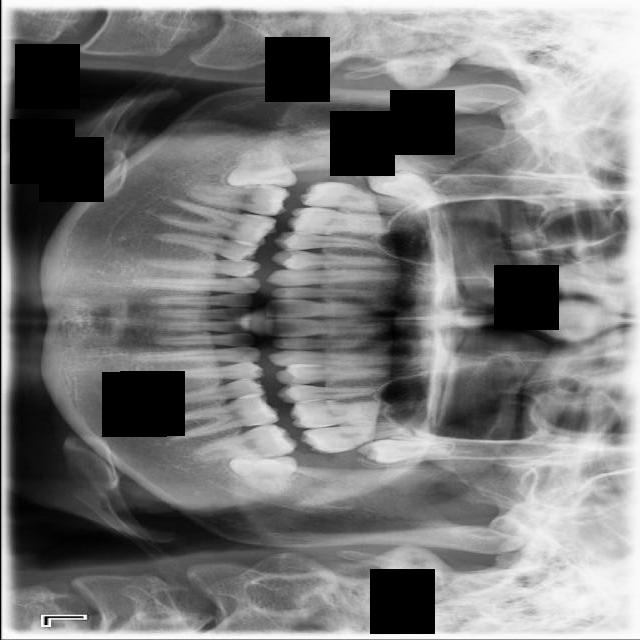3M ESPE Implant: (363, 160, 451, 213)
73: (23, 616, 36, 630)
BioHorizons Implant: (298, 416, 414, 457)
BioLife Implant: (356, 439, 452, 464)
Biomet 3i Implant: (225, 447, 298, 499)
Blue Sky Bio Implant: (192, 421, 297, 464)
Caries: (297, 179, 433, 217)
Implant: (184, 172, 291, 219)
Keystone Dental Implant: (224, 146, 297, 192)
